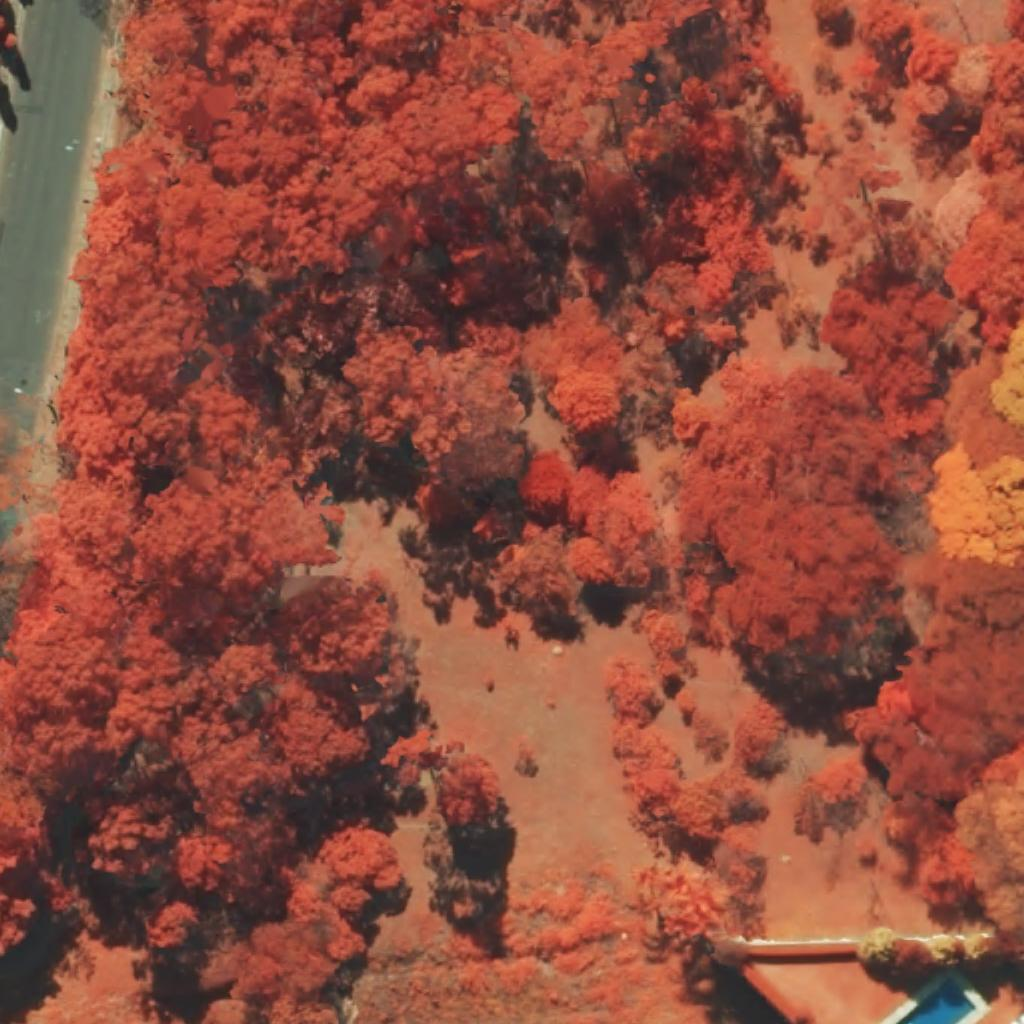pool: (897, 978, 977, 1024)
